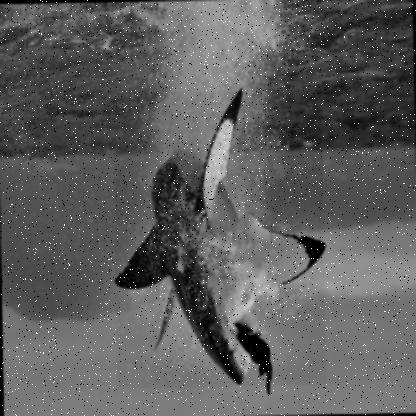white-shark: (112, 88, 327, 388)
